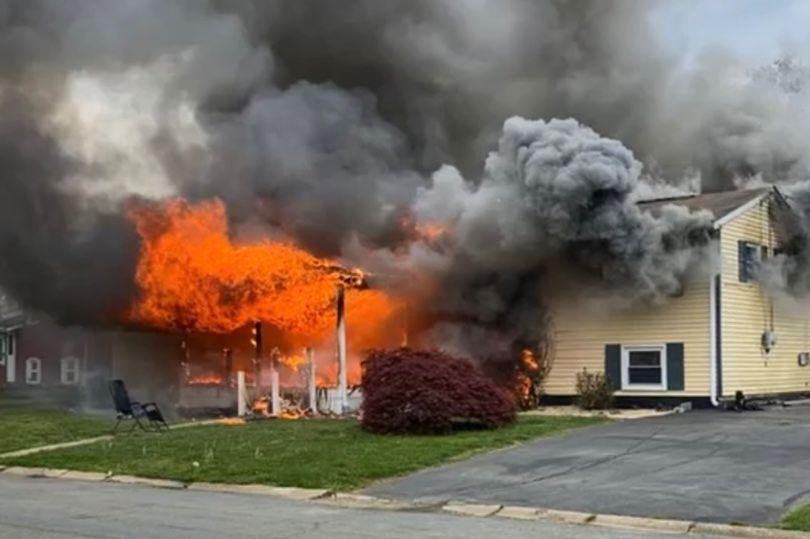Fire: (119, 195, 367, 346), (177, 352, 331, 426), (509, 336, 554, 413), (392, 207, 457, 259)
